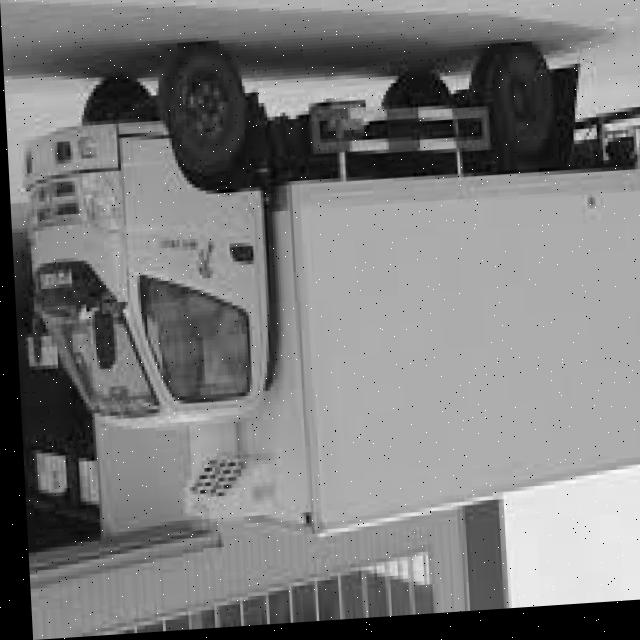truck: (3, 36, 314, 460)
